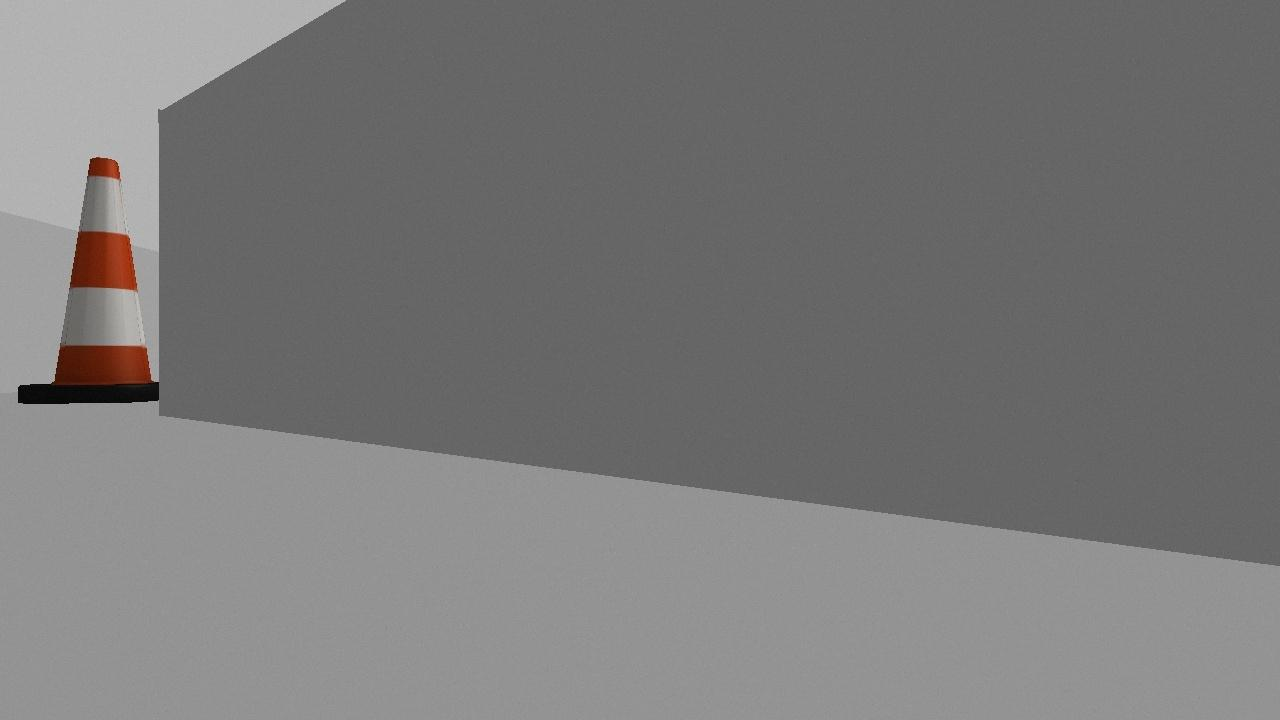cone_barrel: (14, 151, 161, 404)
